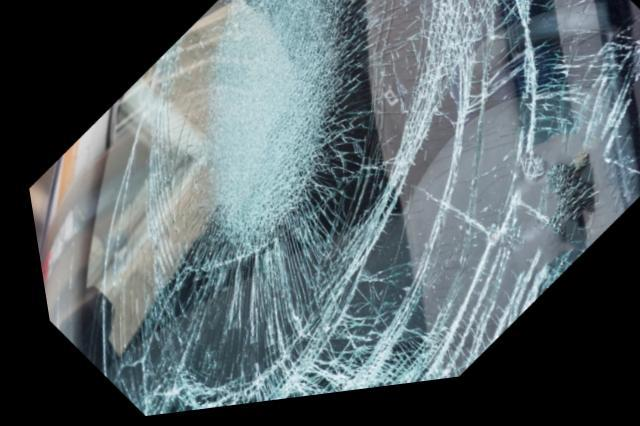glass shatter: (31, 0, 640, 418)
